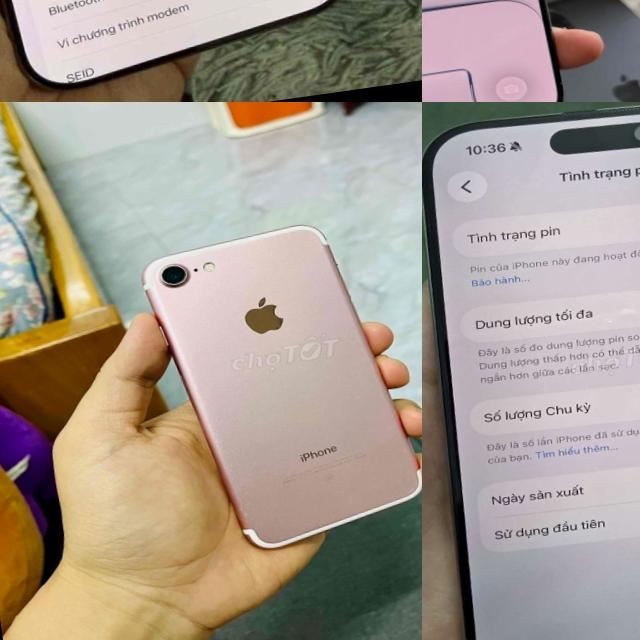gen_15: (422, 102, 640, 640)
gen_16: (5, 0, 334, 87)
gen_17: (422, 0, 574, 102)
gen_7_8: (129, 209, 422, 565)
scratch: (236, 500, 256, 522), (404, 478, 420, 492), (329, 484, 346, 494), (400, 445, 413, 456), (268, 472, 281, 481)
